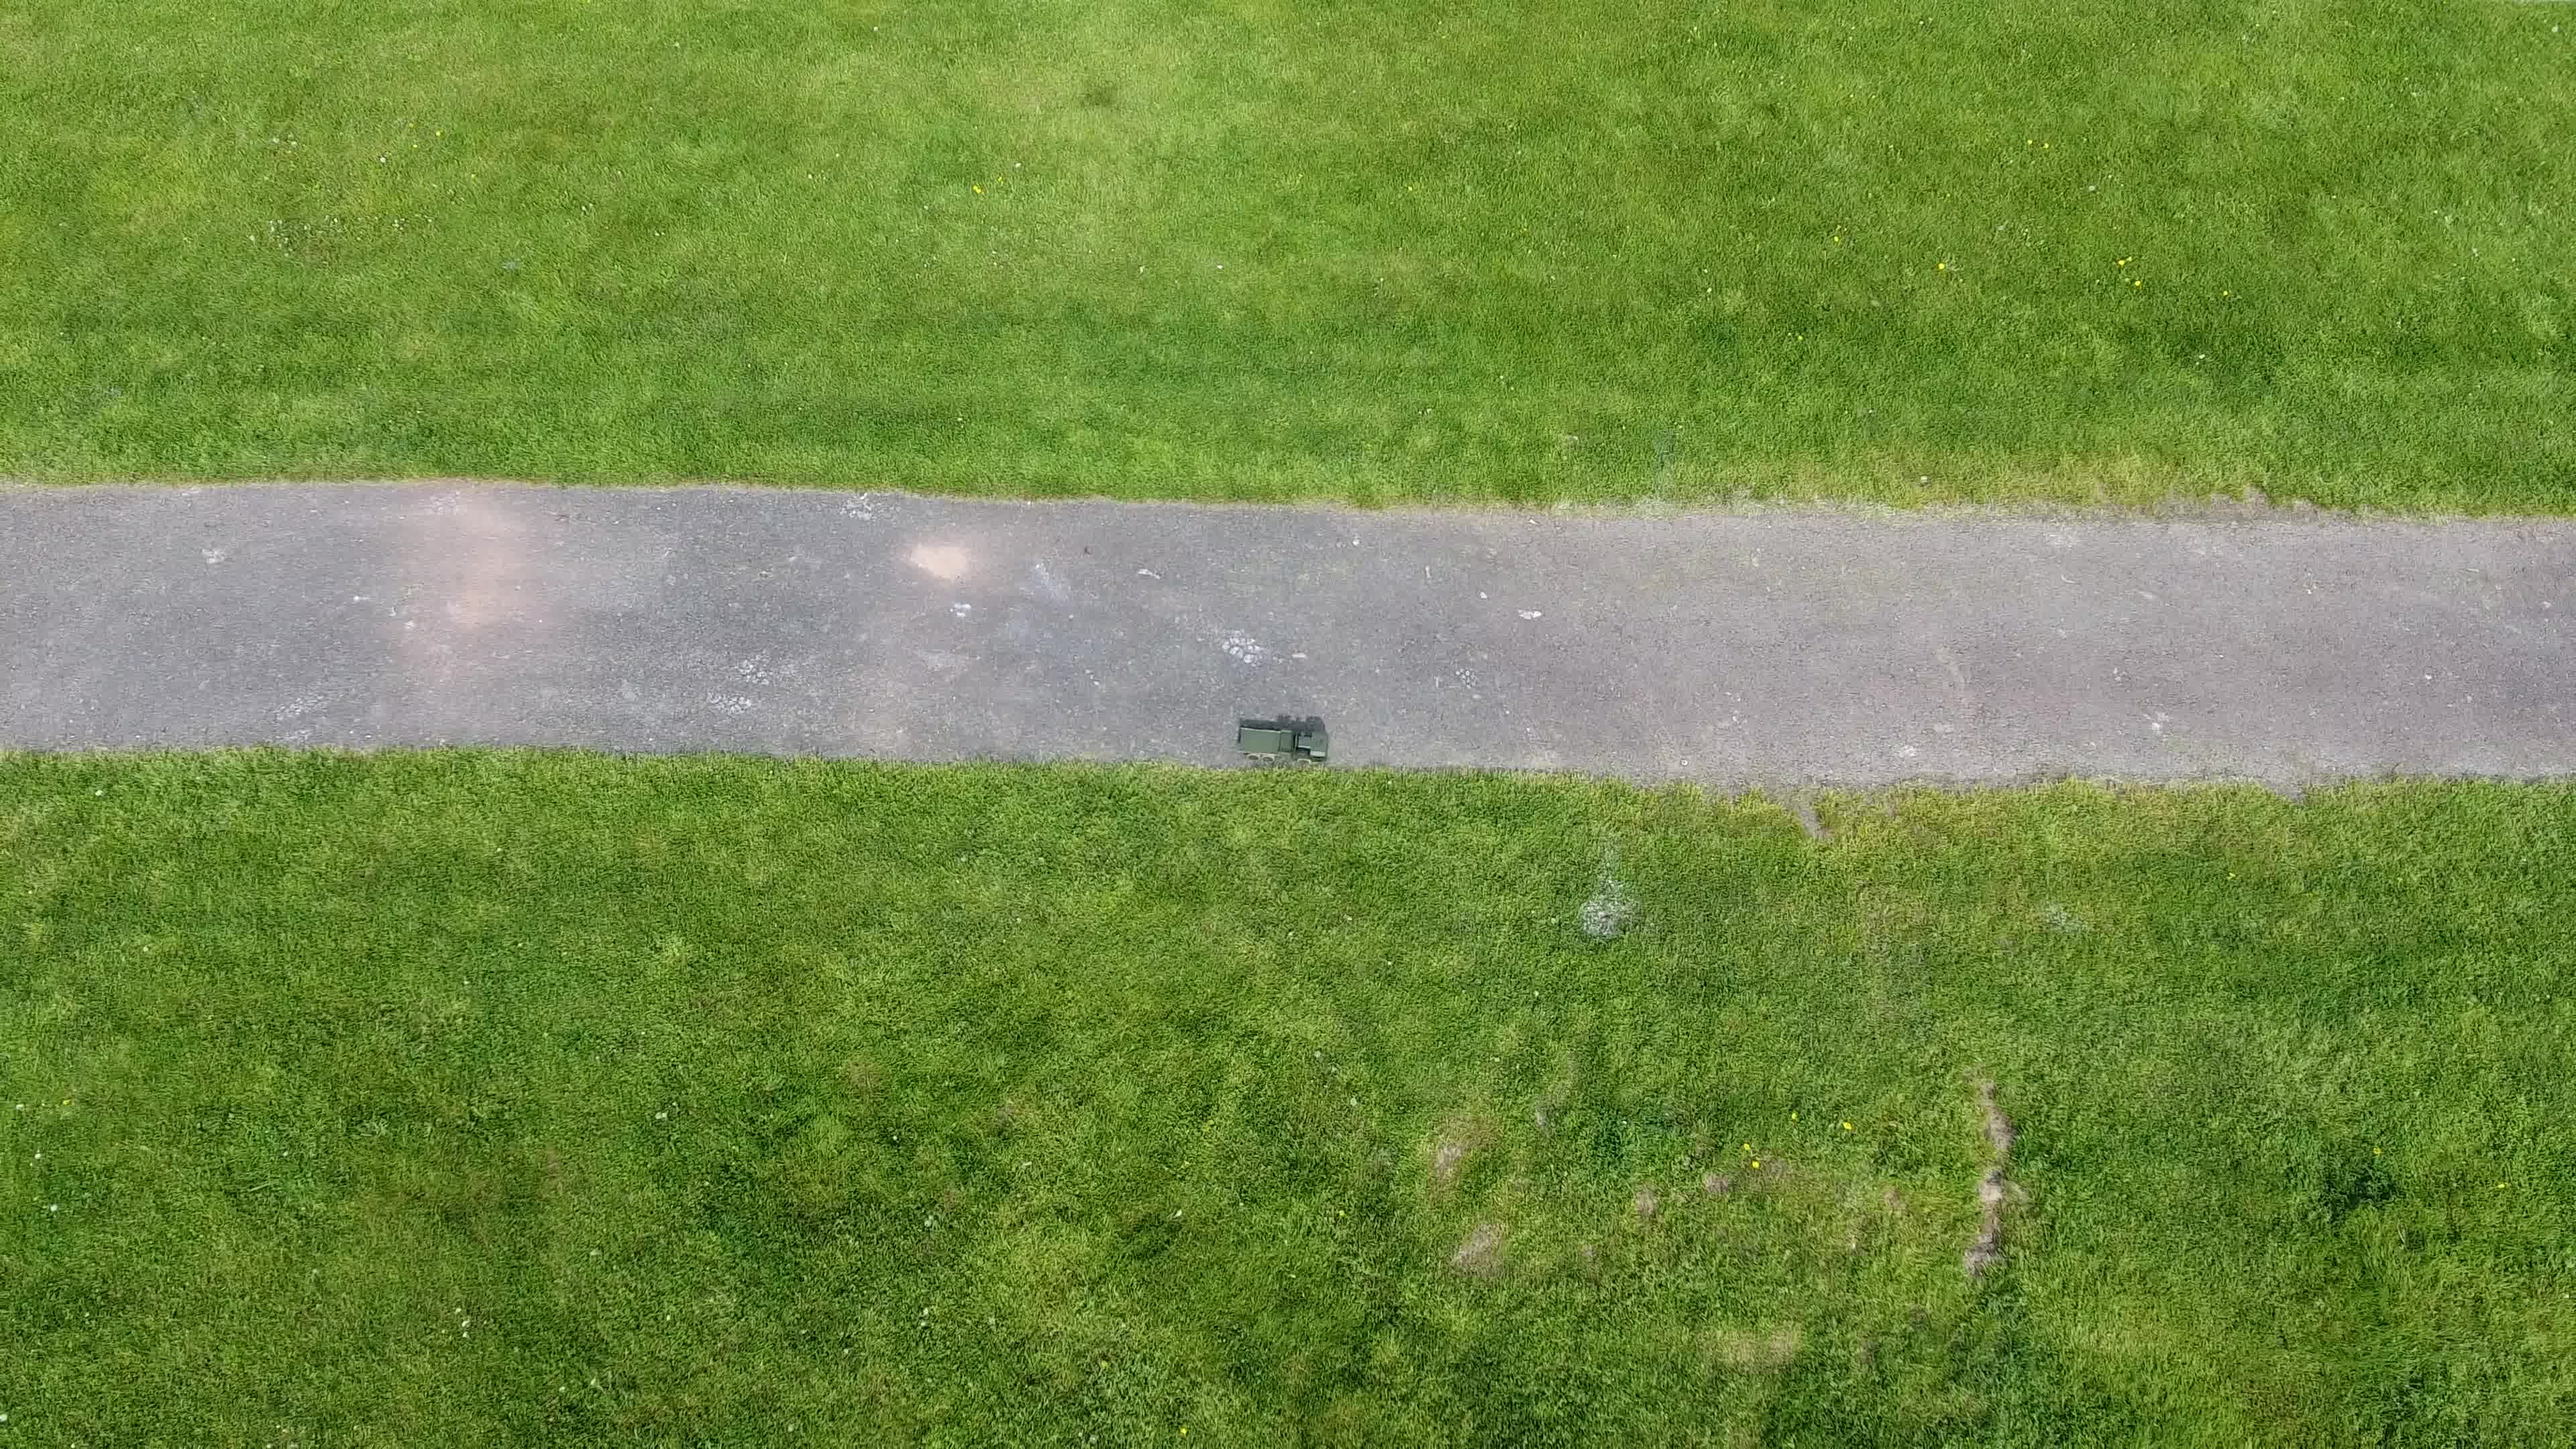transporter9: (1230, 717, 1334, 770)
